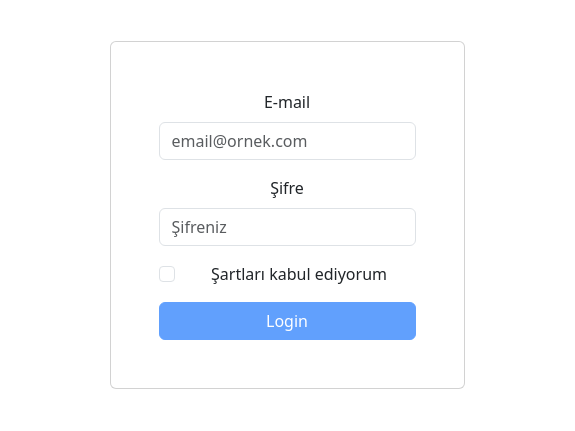
Scenario: Kayıt Formu Testleri › Hatalı Durum Kontrolleri › Email ve Password yanlış girildiğinde beklenen kontroller
This screenshot has width=575, height=431.
In the field named "email": (288, 141) x1=159 y1=122 x2=416 y2=160, type "yanlis-email"
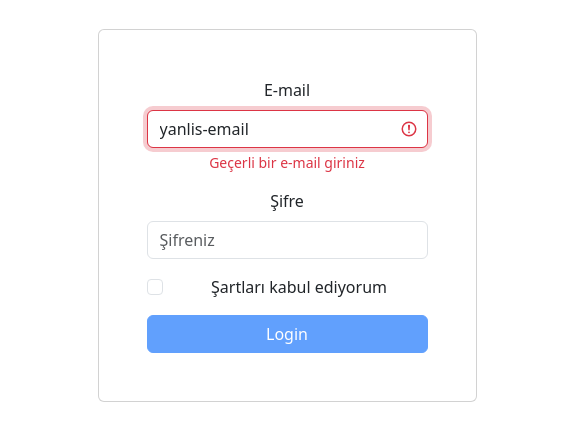
In the password field named "password": (288, 240) x1=147 y1=221 x2=428 y2=259, type "123"
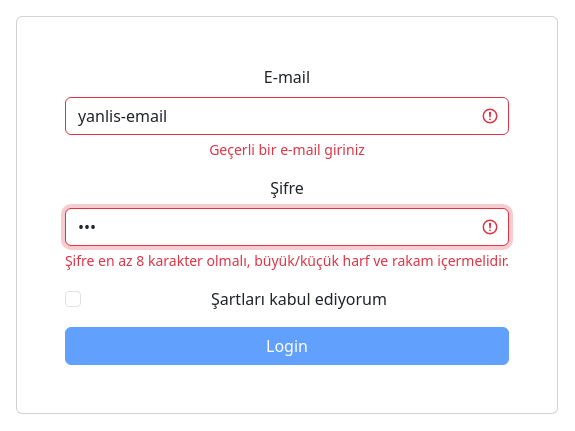
Expected: the button "Login" is disabled, x1=65 y1=327 x2=509 y2=365
Result: the text "Şifre en az 8 karakter olmalı" is shown at x1=65 y1=251 x2=509 y2=270
